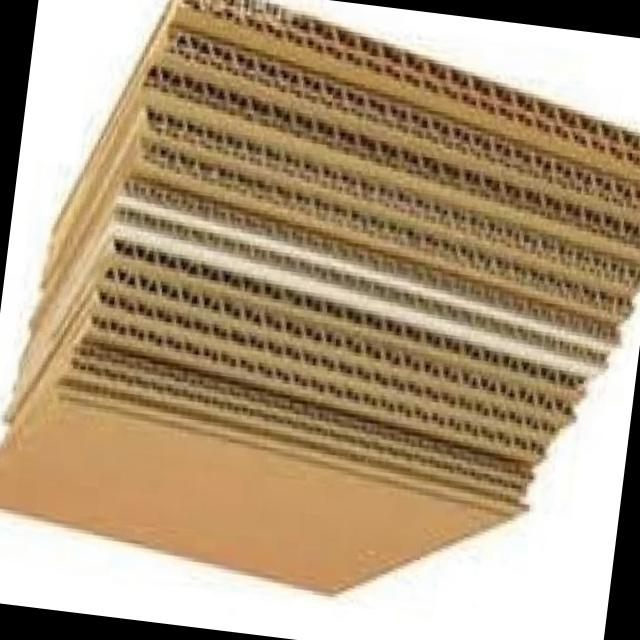cardboard paper: (0, 0, 640, 595)
